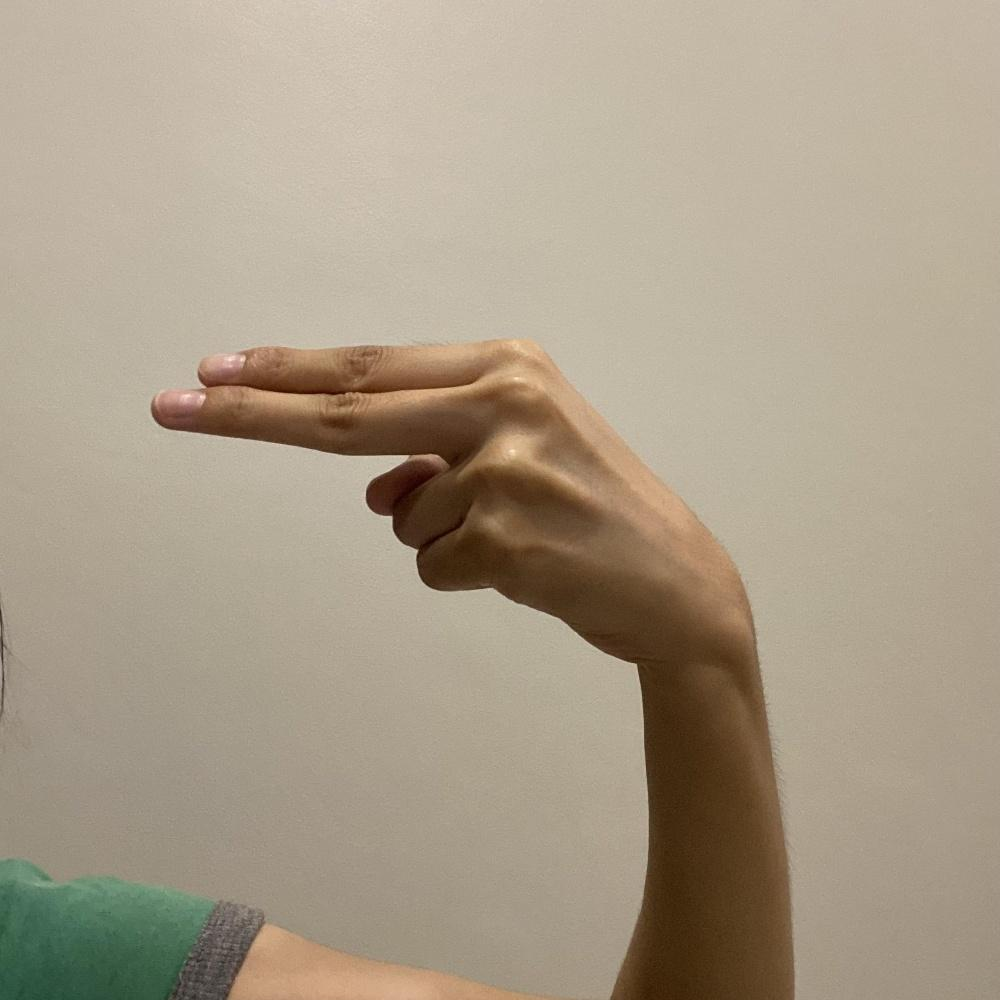h: (147, 327, 756, 668)
